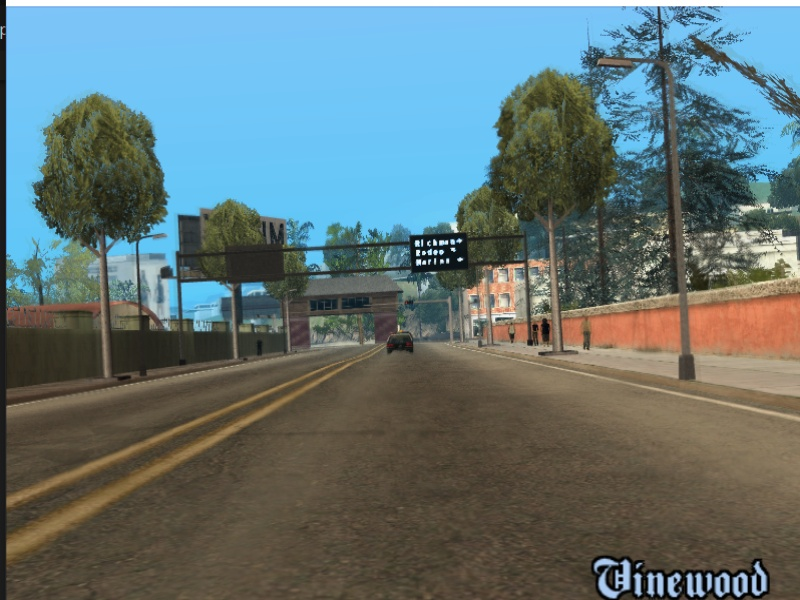person: (581, 314, 593, 351), (541, 316, 553, 346), (505, 322, 517, 346), (529, 320, 540, 346)
pole: (656, 59, 703, 384), (136, 239, 152, 378), (173, 255, 189, 371), (517, 235, 533, 350), (281, 293, 299, 355), (445, 297, 457, 345)
tree: (74, 232, 125, 378), (227, 284, 245, 365)
vehicle: (386, 334, 416, 356)
